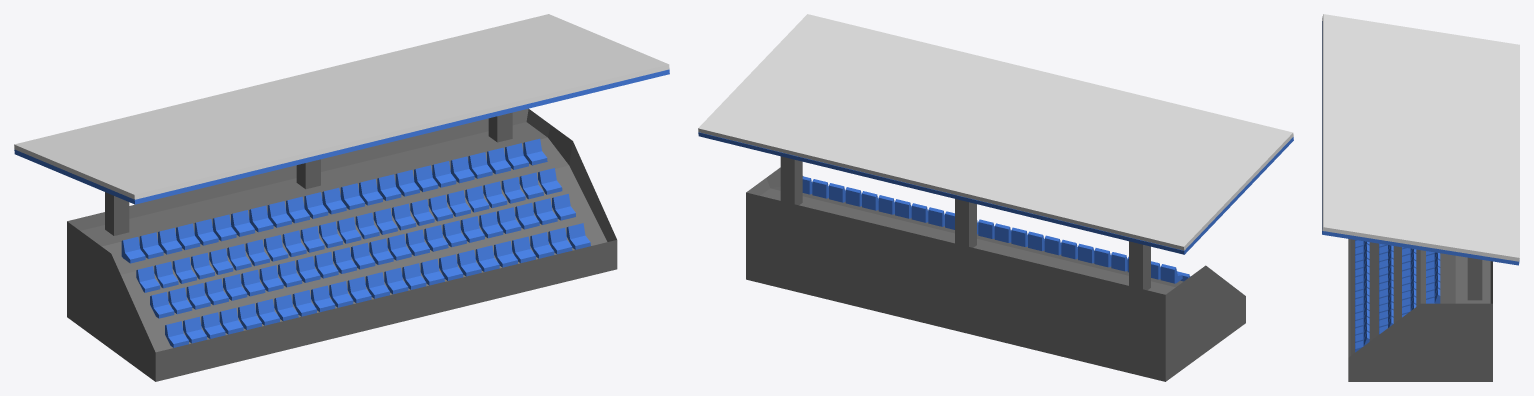
File: Stands-Snow.glb
3 renders of one model, left to right at view 1: azimuth 30°, elevation 25°; view 2: azimuth 150°, elevation 25°; view 3: azimuth 270°, elevation 25°, orthographic. The views are drawn at different scales.
Visible parts, largest first — view 1: Stands_Base, RoofSnow, Roof, Pillar3, Pillar, PIllar2; view 2: RoofSnow, Stands_Base, Roof, Pillar, Pillar3, PIllar2; view 3: RoofSnow, Stands_Base, Roof, Pillar.
Boxes of the visible parts, x1,y1,x2,y2 form: Stands_Base: [67, 108, 617, 381]; RoofSnow: [14, 14, 669, 199]; Roof: [14, 69, 669, 204]; Pillar3: [105, 192, 129, 235]; Pillar: [488, 112, 512, 142]; PIllar2: [296, 159, 320, 189]; RoofSnow: [698, 14, 1293, 250]; Stands_Base: [746, 167, 1245, 381]; Roof: [698, 132, 1293, 254]; Pillar: [780, 156, 802, 205]; Pillar3: [1129, 241, 1150, 290]; PIllar2: [955, 199, 976, 247]; RoofSnow: [1322, 14, 1519, 261]; Stands_Base: [1348, 239, 1492, 381]; Roof: [1322, 21, 1519, 265]; Pillar: [1467, 257, 1482, 300].
Size of the model in its own units: 69.72 by 25.83 by 27.34.
